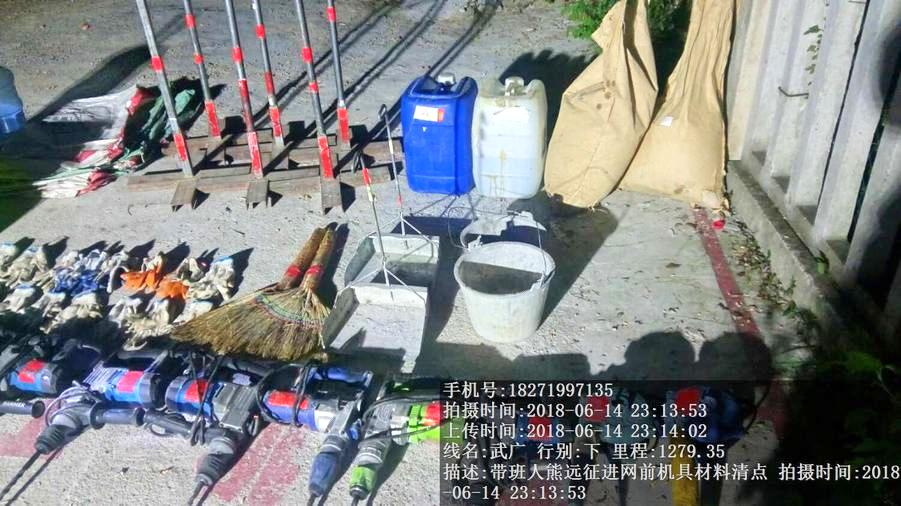DZ: (26, 363, 159, 476), (262, 358, 365, 502), (164, 367, 259, 491)
SB: (198, 228, 343, 346)
SLT: (394, 69, 472, 200), (473, 73, 549, 200)
SNT: (458, 240, 559, 348)
